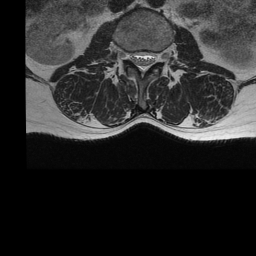CCS_normal: (138, 42, 147, 83)
LFS_normal: (156, 41, 164, 69)
LLS_normal: (147, 41, 156, 72)
RFS_normal: (121, 40, 129, 69)
RLS_normal: (129, 42, 138, 72)
